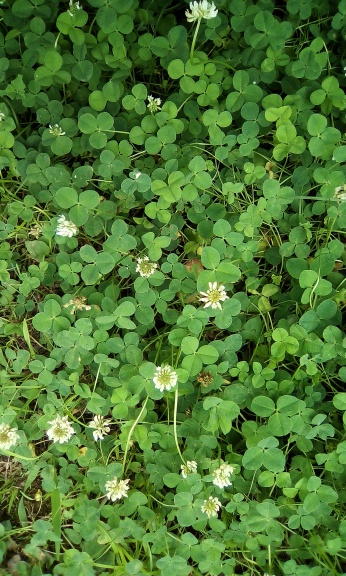4leaf: (176, 304, 210, 335)
